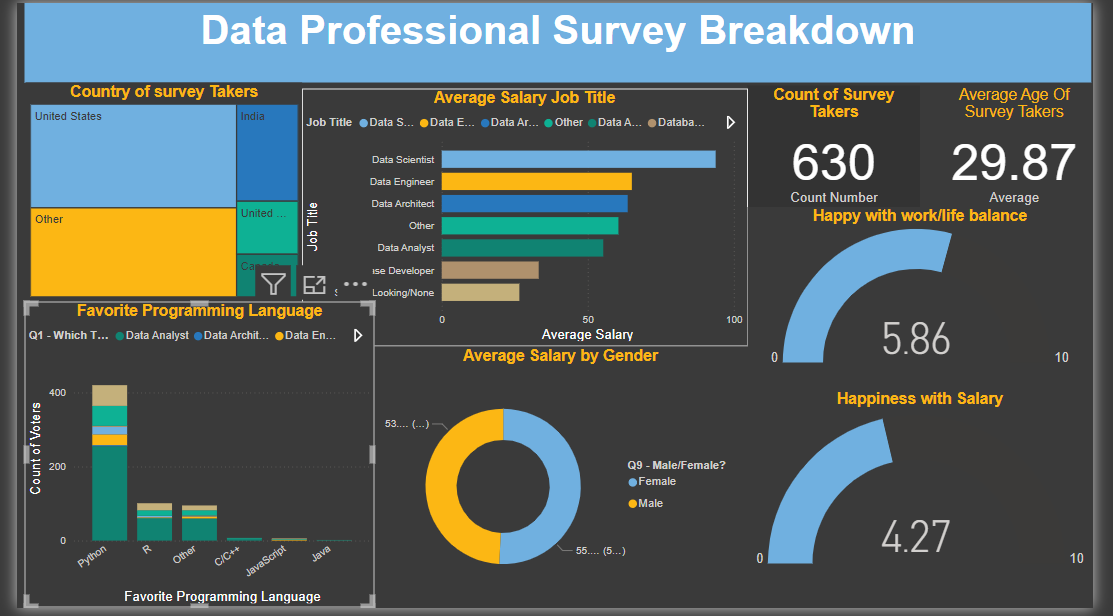

The page's visual inventory and layout, read from the dashboard file:
{"tool":"powerbi","page":{"name":"Page 1","canvas":[1280,720],"ordinal":0},"visuals":[{"type":"textbox","box":[9.4,0,1269.9,94.5],"z":0},{"type":"card","title":"Count of Survey Takers","fields":{"Values":["CountNonNull(Data Professional Survey (2).Unique ID)"]},"box":[868.9,98.4,205.2,148.7],"z":1000},{"type":"card","title":"Average Age Of Survey Takers","fields":{"Values":["Avg(Data Professional Survey.Q10 - Current Age)"]},"box":[1094.7,97.7,184.6,149.9],"z":2000},{"type":"barChart","title":"Average Salary Job Title","fields":{"Category":["Data Professional Survey (2).Q1 - Which Title Best Fits your Current Role?.1"],"Y":["Avg(Data Professional Survey (2).Average Salary.2)"],"Series":["Data Professional Survey (2).Q1 - Which Title Best Fits your Current Role?.1"]},"box":[339.2,102.6,529.7,305.7],"z":3000},{"type":"columnChart","title":" Favorite Programming Language","fields":{"Category":["Data Professional Survey (2).Q5 - Favorite Programming Language.1"],"Y":["CountNonNull(Data Professional Survey (2).Unique ID)"],"Series":["Data Professional Survey (2).Q1 - Which Title Best Fits your Current Role?.1"]},"box":[8.4,355.9,416.7,364.3],"z":4000},{"type":"treemap","title":"Country of survey Takers","fields":{"Group":["Data Professional Survey (2).Q11 - Which Country do you live in?.1"],"Values":["CountNonNull(Data Professional Survey (2).Q11 - Which Country do you live in?.1)"]},"box":[10.5,94.2,328.7,259.6],"z":5000},{"type":"gauge","title":"Happy with work/life balance","fields":{"Y":["Avg(Data Professional Survey (2).Q6 - How Happy are you in your Current Position with the following? (Coworkers))"],"MinValue":["Min(Data Professional Survey (2).Q6 - How Happy are you in your Current Position with the following? (Coworkers))"],"MaxValue":["Max(Data Professional Survey (2).Q6 - How Happy are you in your Current Position with the following? (Coworkers))1"]},"box":[868.9,242.9,410.4,194.7],"z":6000},{"type":"gauge","title":"Happiness with Salary","fields":{"Y":["Avg(Data Professional Survey (2).Q6 - How Happy are you in your Current Position with the following? (Salary))"],"MinValue":["Min(Data Professional Survey (2).Q6 - How Happy are you in your Current Position with the following? (Salary))"],"MaxValue":["Max(Data Professional Survey (2).Q6 - How Happy are you in your Current Position with the following? (Salary))"]},"box":[868.9,460.6,410.4,219.8],"z":7000},{"type":"donutChart","title":"Average Salary by Gender","fields":{"Category":["Data Professional Survey (2).Q9 - Male/Female?"],"Y":["Avg(Data Professional Survey (2).Average Salary.2)"]},"box":[425,408.3,443.9,312],"z":7001}]}

Visuals, with their boxes in screenshot pixels (x1, y1, x2, y2), scaled from the page's 1280x720 canvas onto the 1113x616 screenshot:
textbox: BBox(8, 0, 1112, 81)
"Count of Survey Takers" card: BBox(756, 84, 934, 211)
"Average Age Of Survey Takers" card: BBox(952, 84, 1112, 212)
"Average Salary Job Title" barChart: BBox(295, 88, 756, 349)
" Favorite Programming Language" columnChart: BBox(7, 304, 370, 615)
"Country of survey Takers" treemap: BBox(9, 81, 295, 303)
"Happy with work/life balance" gauge: BBox(756, 208, 1112, 374)
"Happiness with Salary" gauge: BBox(756, 394, 1112, 582)
"Average Salary by Gender" donutChart: BBox(370, 349, 756, 615)
